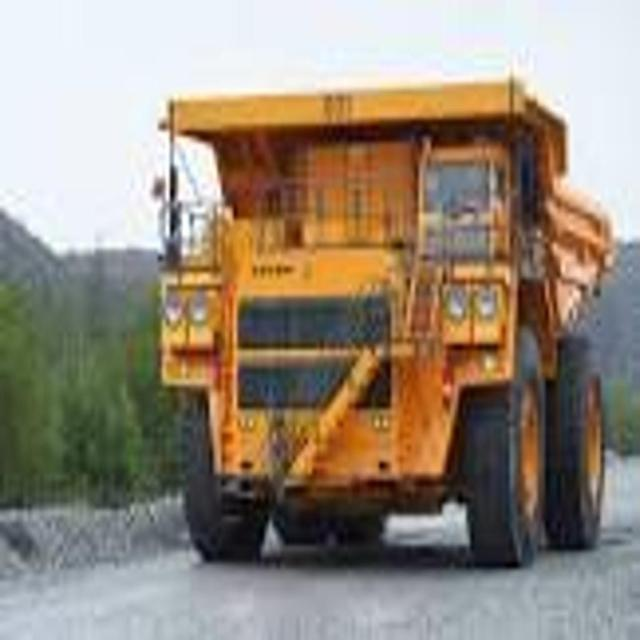dump_truck: (152, 52, 614, 583)
